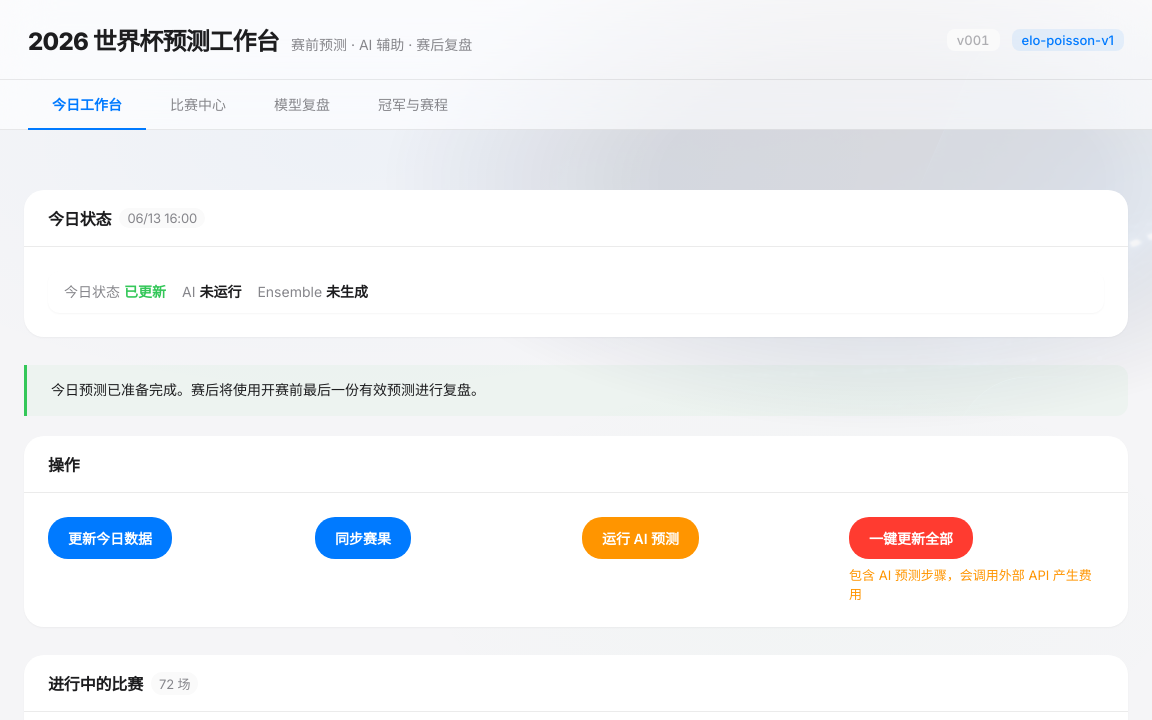
Test: shows champion probability tab in tournament center
This screenshot has width=1152, height=720.
Step 1. Click the tab "冠军与赛程" → (413, 105), box [354,80,472,130]
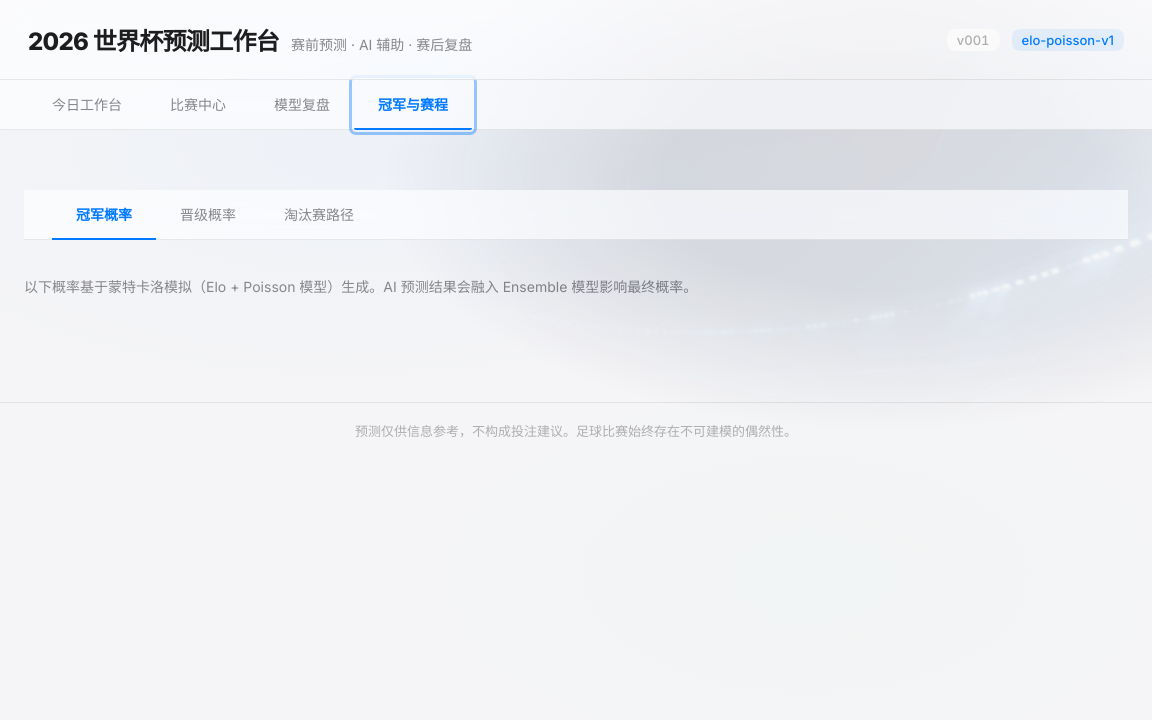
Check: the button "冠军概率" is shown, box [52,190,156,240]
Check: the button "晋级概率" is shown, box [156,190,260,240]
Check: the button "淘汰赛路径" is shown, box [260,190,378,240]
